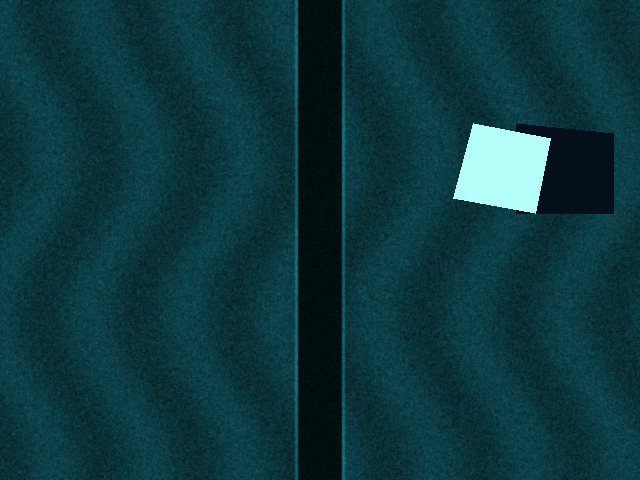Unknown Anomaly: (453, 123, 550, 213)
